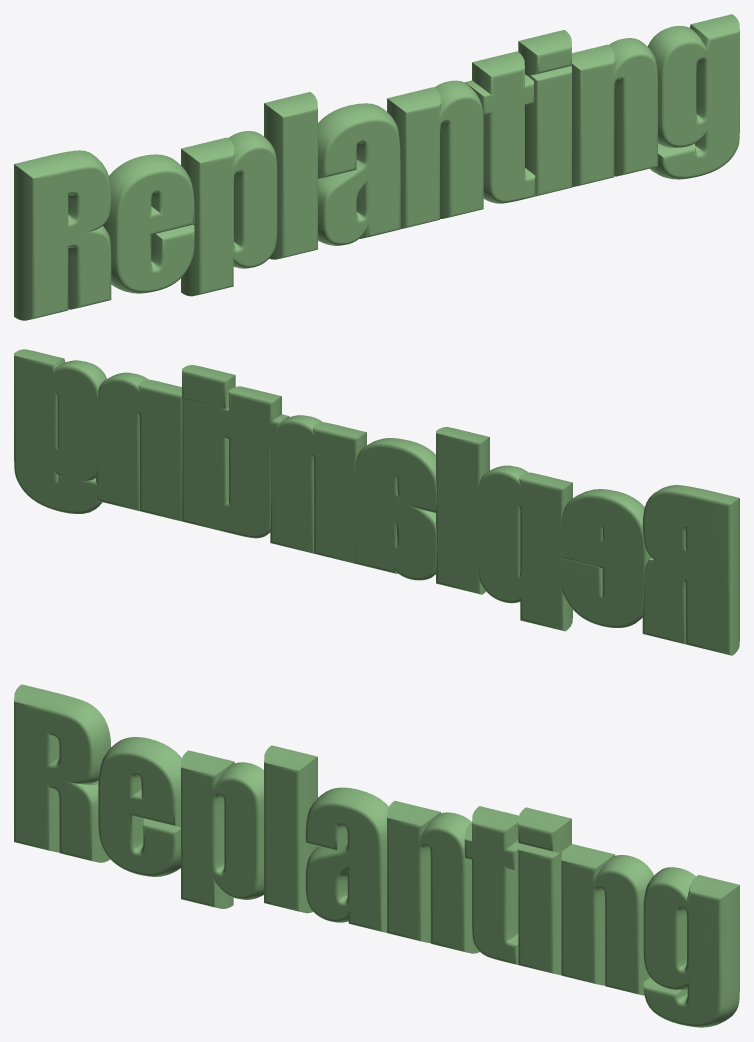
File: replanting.fbx
3 renders of one model, top to bottom at view 1: azimuth 30°, elevation 25°; view 2: azimuth 150°, elevation 25°; view 3: azimuth 330°, elevation 25°, orthographic.
Parts seen in each view (by area): view 1: typeMesh1; view 2: typeMesh1; view 3: typeMesh1.
Boxes of the visible parts, <box> form: typeMesh1: <box>14,14,739,320</box>; typeMesh1: <box>14,349,739,655</box>; typeMesh1: <box>14,684,739,1027</box>.
Size of the model in its own units: 69.48 by 15.95 by 2.5.
